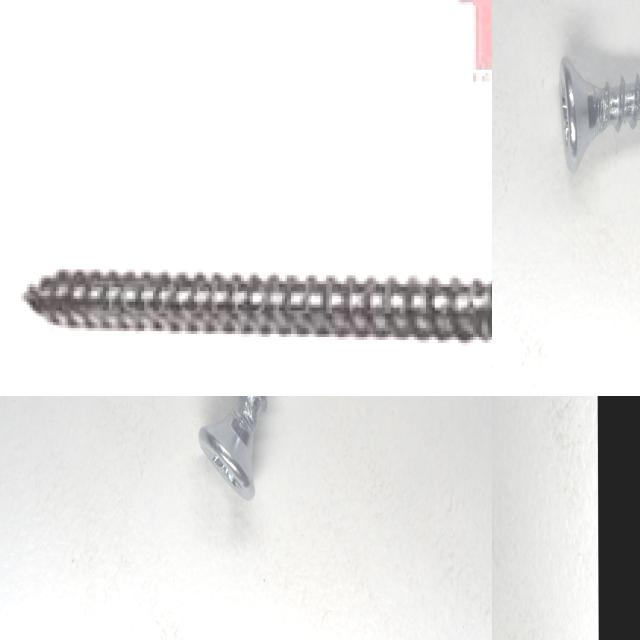Screw: (21, 269, 492, 347), (559, 56, 640, 171), (199, 396, 267, 498)
